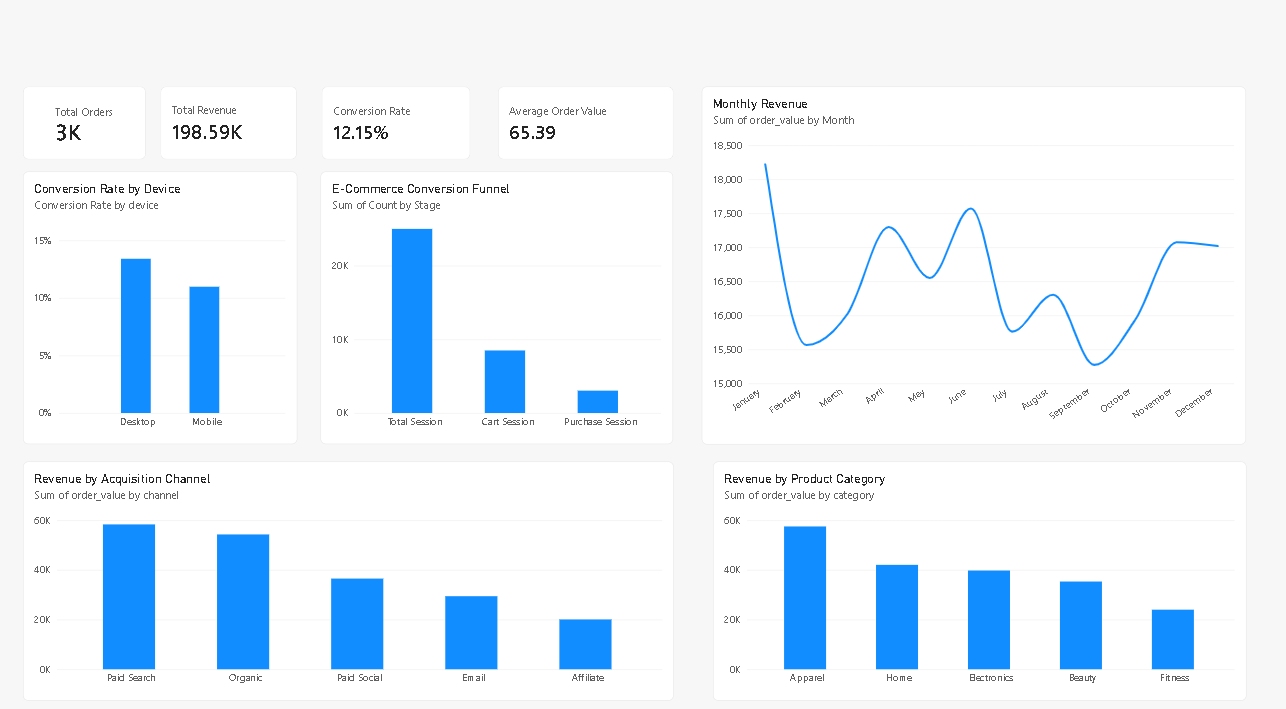

The dashboard page shown, as its layout file describes it:
{"tool":"powerbi","page":{"name":"Page 1","canvas":[1920,1080],"ordinal":0},"visuals":[{"type":"textbox","box":[10,580,280,280],"z":0},{"type":"textbox","box":[10,870,280,210],"z":1000},{"type":"cardVisual","title":"Total Revenue","fields":{"Data":["orders_clean.Total Revenue"]},"box":[248,152,202,108],"z":2000},{"type":"cardVisual","title":"Total Orders","fields":{"Data":["orders_clean.Total Orders"]},"box":[44,152,182,108],"z":3000},{"type":"cardVisual","title":"Conversion Rate","fields":{"Data":["orders_clean.Conversion Rate"]},"box":[486.8,152,220.8,108.6],"z":4000},{"type":"cardVisual","title":"Average Order Value","fields":{"Data":["orders_clean.Average Order Value"]},"box":[748,152,260,108],"z":5000},{"type":"clusteredColumnChart","title":"Revenue by Product Category","fields":{"Category":["orders_clean.category"],"Y":["Sum(orders_clean.order_value)"]},"box":[1066,708,790,354],"z":7000},{"type":"lineChart","title":"Monthly Revenue","fields":{"Category":["orders_clean.session_date.Variation.Date Hierarchy.Month"],"Y":["Sum(orders_clean.order_value)"]},"box":[1050,152,806,530],"z":7001},{"type":"clusteredColumnChart","title":"E-Commerce Conversion Funnel","fields":{"Category":["Table (2).Stage"],"Y":["Sum(Table (2).Count)"]},"box":[486,278,522,404],"z":7002},{"type":"clusteredColumnChart","title":"Conversion Rate by Device","fields":{"Category":["web_sessions_clean.device"],"Y":["orders_clean.Conversion Rate"]},"box":[44,278,406,404],"z":7005},{"type":"clusteredColumnChart","title":"Revenue by Acquisition Channel","fields":{"Category":["orders_clean.channel"],"Y":["Sum(orders_clean.order_value)"]},"box":[44,708,964,354],"z":7007}]}

Visuals, with their boxes in screenshot pixels (x1, y1, x2, y2), scaled from the page's 1920x1080 canvas onto the 1286x709 screenshot:
textbox: 7,381,194,565
textbox: 7,571,194,708
"Total Revenue" cardVisual: 166,100,301,171
"Total Orders" cardVisual: 29,100,151,171
"Conversion Rate" cardVisual: 326,100,474,171
"Average Order Value" cardVisual: 501,100,675,171
"Revenue by Product Category" clusteredColumnChart: 714,465,1243,697
"Monthly Revenue" lineChart: 703,100,1243,448
"E-Commerce Conversion Funnel" clusteredColumnChart: 326,183,675,448
"Conversion Rate by Device" clusteredColumnChart: 29,183,301,448
"Revenue by Acquisition Channel" clusteredColumnChart: 29,465,675,697
